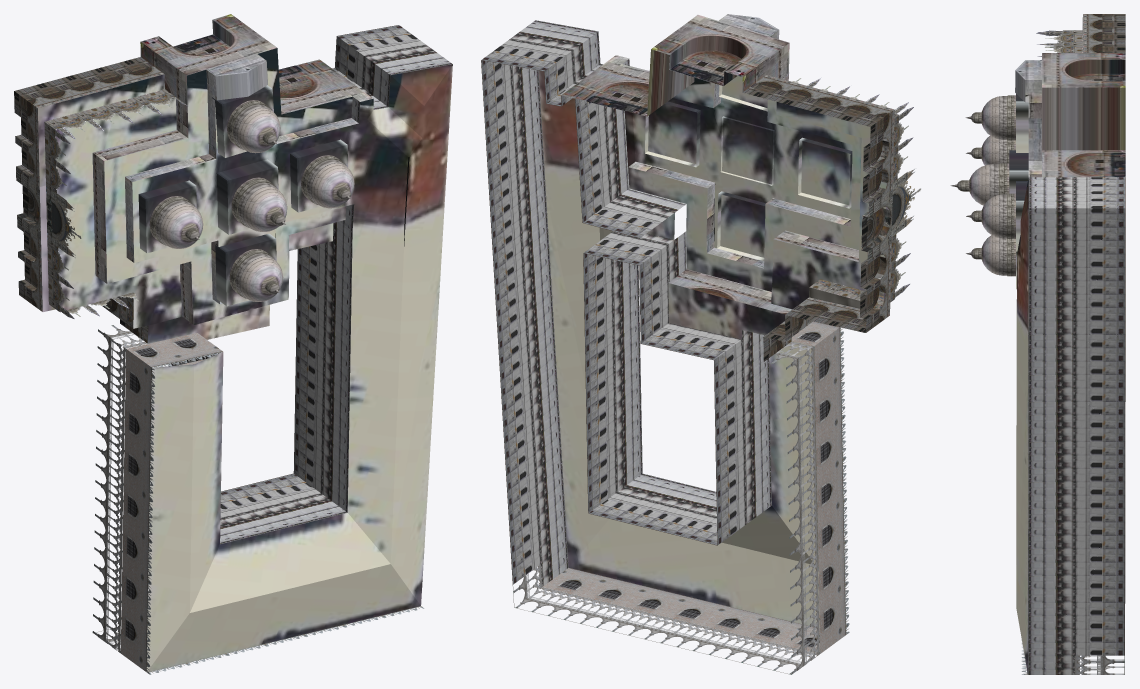
File: san_marco_doge.obj
The picture shows the model from 3 angles, left to right: view 1: azimuth 30°, elevation 25°; view 2: azimuth 150°, elevation 25°; view 3: azimuth 270°, elevation 25°; orthographic projection. The views are drawn at different scales.
Visible parts, largest first — view 1: mesh13, group5, group3, group7, group1, group6, group4, group14, group10, group13, group9, group8 (+6 smaller); view 2: group5, mesh13, group3, group7, group1, group6, group4, mesh18, mesh14; view 3: group5, group3, mesh13, group1, group10, group8, group14, group9, group13, group6, mesh15, mesh11 (+1 smaller).
Boxes of the visible parts, bbox=[...] form: mesh13: bbox=[38, 48, 452, 671]; group5: bbox=[168, 25, 452, 544]; group3: bbox=[92, 14, 372, 324]; group7: bbox=[120, 333, 424, 674]; group1: bbox=[14, 57, 187, 343]; group6: bbox=[92, 325, 146, 652]; group4: bbox=[16, 170, 81, 257]; group14: bbox=[231, 177, 287, 231]; group10: bbox=[301, 155, 354, 208]; group13: bbox=[149, 196, 203, 248]; group9: bbox=[229, 249, 283, 301]; group8: bbox=[227, 100, 280, 153]; group5: bbox=[481, 20, 771, 586]; mesh13: bbox=[538, 70, 898, 627]; group3: bbox=[561, 14, 858, 314]; group7: bbox=[543, 321, 849, 653]; group1: bbox=[742, 73, 913, 361]; group6: bbox=[512, 341, 819, 674]; group4: bbox=[861, 169, 920, 260]; mesh18: bbox=[798, 137, 852, 208]; mesh14: bbox=[645, 101, 700, 167]; group5: bbox=[1028, 177, 1125, 674]; group3: bbox=[1015, 53, 1125, 177]; mesh13: bbox=[1016, 17, 1082, 673]; group1: bbox=[1036, 14, 1125, 60]; group10: bbox=[966, 193, 1015, 238]; group8: bbox=[965, 95, 1015, 140]; group14: bbox=[950, 163, 1009, 205]; group9: bbox=[966, 235, 1015, 276]; group13: bbox=[966, 135, 1015, 165]; group6: bbox=[1074, 655, 1124, 674]; mesh15: bbox=[1016, 94, 1028, 152]; mesh11: bbox=[1009, 150, 1028, 193].
Bounding box in the file's own units: 104 × 151 × 45.58.
